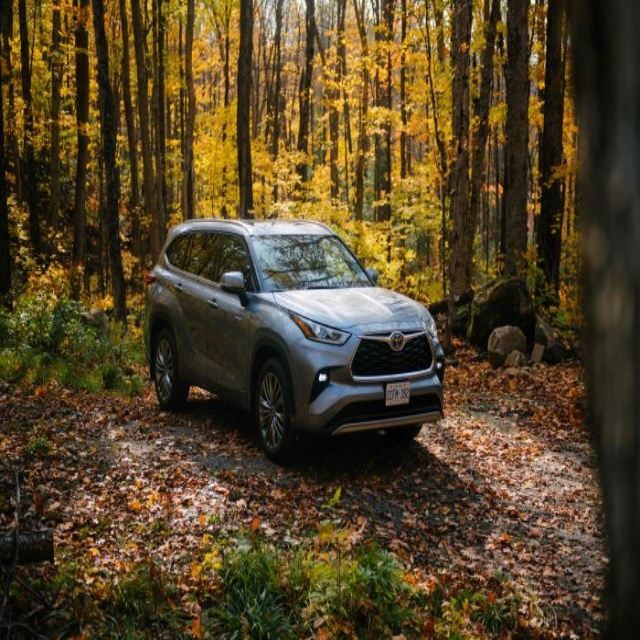Car: (143, 218, 445, 465)
